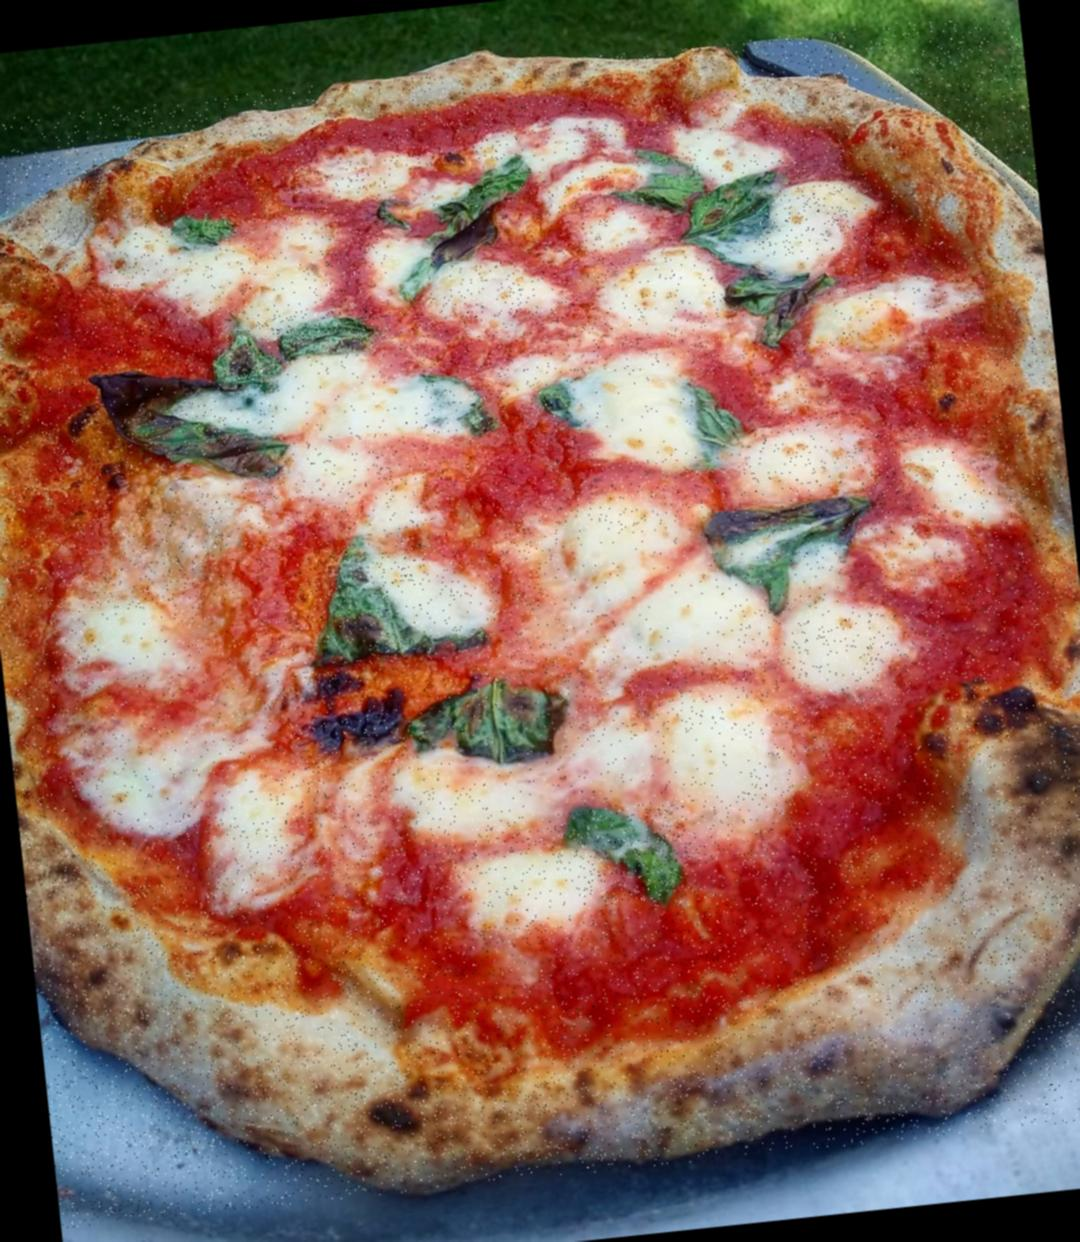Basil: (93, 354, 306, 503), (694, 487, 879, 610), (383, 157, 535, 295), (612, 130, 779, 253), (568, 793, 696, 909), (409, 675, 562, 766), (322, 537, 421, 667), (721, 250, 829, 349), (681, 373, 757, 470), (274, 306, 380, 360), (213, 321, 283, 394)
Cheese: (86, 596, 274, 823), (441, 729, 751, 825), (563, 517, 739, 660), (124, 240, 311, 320), (278, 365, 419, 443), (576, 366, 686, 464), (825, 289, 946, 376), (617, 260, 719, 335), (738, 430, 854, 493), (792, 613, 887, 681), (755, 191, 852, 258), (449, 259, 534, 328)
Pizza: (0, 11, 1080, 1228)
